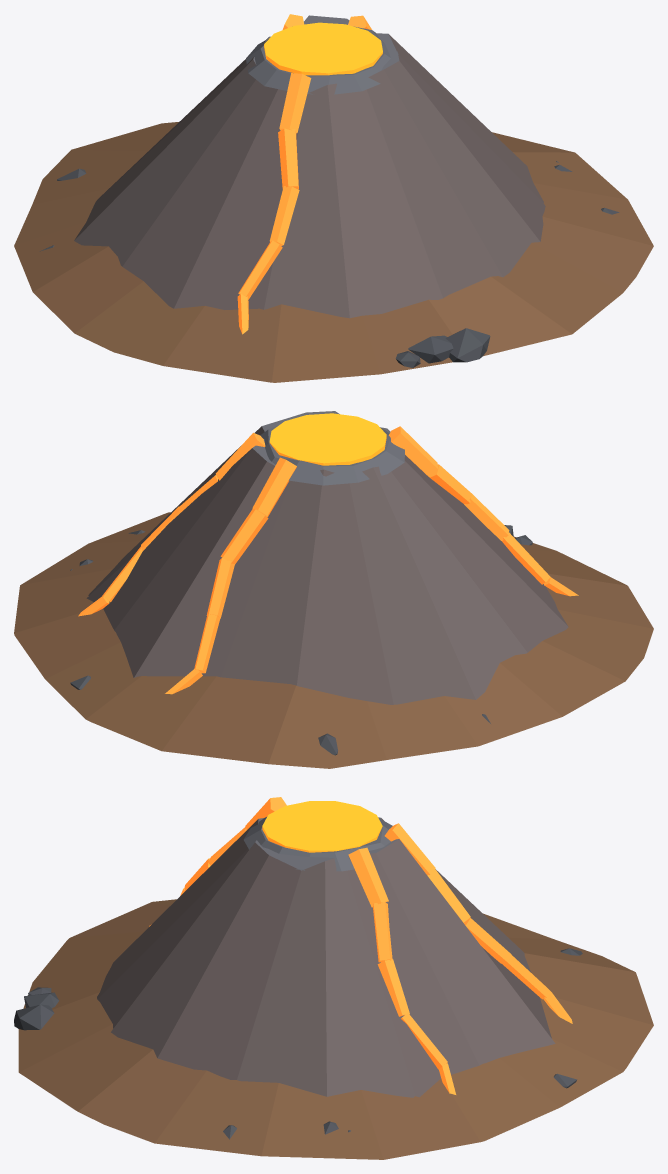
File: volcano.glb
3 renders of one model, top to bottom at view 1: azimuth 30°, elevation 25°; view 2: azimuth 150°, elevation 25°; view 3: azimuth 270°, elevation 25°, orthographic.
Visible parts, largest first — view 1: volcano; view 2: volcano; view 3: volcano.
Boxes of the visible parts, bbox=[...] form: volcano: bbox=[14, 14, 653, 382]; volcano: bbox=[14, 411, 653, 768]; volcano: bbox=[14, 797, 653, 1159].
Bounding box in the file's own units: 24.64 × 8.61 × 24.45.
